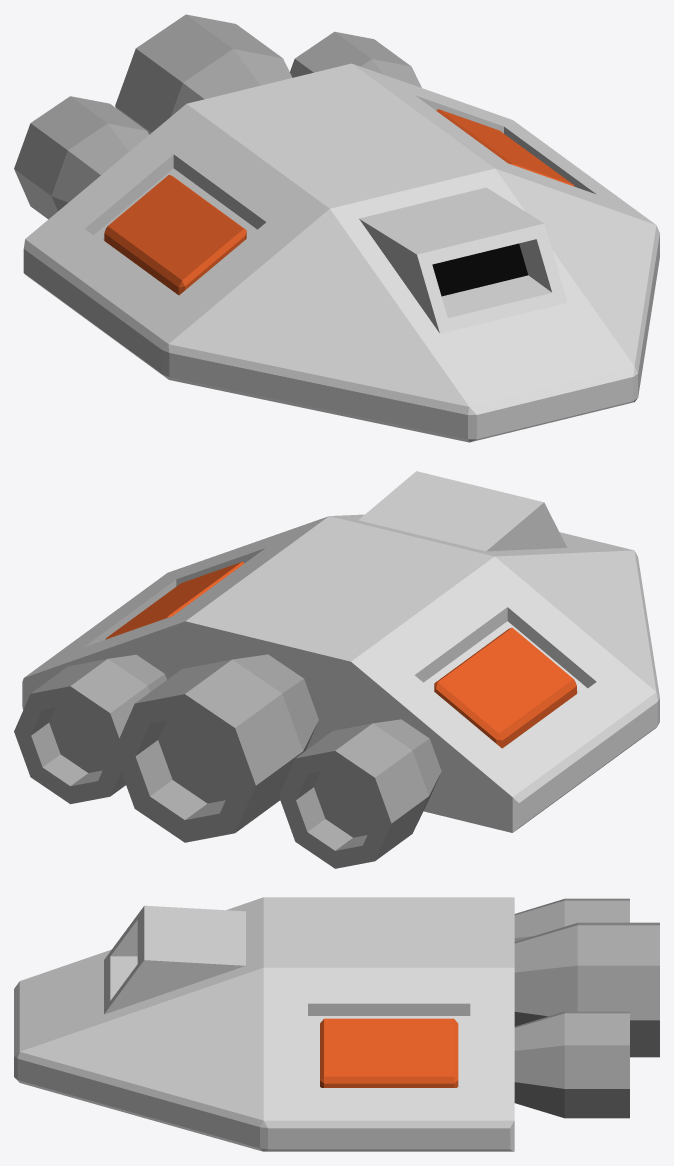
The model's file is Spaceship.glb.
3 views of the same model, one above another, from view 1: azimuth 30°, elevation 25°; view 2: azimuth 150°, elevation 25°; view 3: azimuth 270°, elevation 25° (orthographic). The views are drawn at different scales.
Visible parts, largest first — view 1: Plane, Plane.001, Circle, Circle.003, Circle.002, Plane.002; view 2: Plane, Circle, Circle.003, Circle.002, Plane.001; view 3: Plane, Circle, Circle.002, Plane.001, Circle.003.
Part boxes in pixels (left/top/right/bottom): Plane: left=23, top=63, right=659, bottom=442; Plane.001: left=104, top=109, right=574, bottom=295; Circle: left=115, top=14, right=292, bottom=134; Circle.003: left=14, top=96, right=148, bottom=219; Circle.002: left=290, top=31, right=421, bottom=87; Plane.002: left=432, top=243, right=528, bottom=296; Plane: left=22, top=471, right=659, bottom=832; Circle: left=114, top=654, right=318, bottom=842; Circle.003: left=279, top=719, right=441, bottom=868; Circle.002: left=14, top=654, right=166, bottom=804; Plane.001: left=105, top=561, right=576, bottom=748; Plane: left=14, top=897, right=514, bottom=1151; Circle: left=514, top=922, right=659, bottom=1057; Circle.002: left=514, top=1011, right=629, bottom=1118; Plane.001: left=320, top=1018, right=458, bottom=1087; Circle.003: left=514, top=898, right=629, bottom=941.
Size of the model in its own units: 2 by 0.5958 by 2.58.
